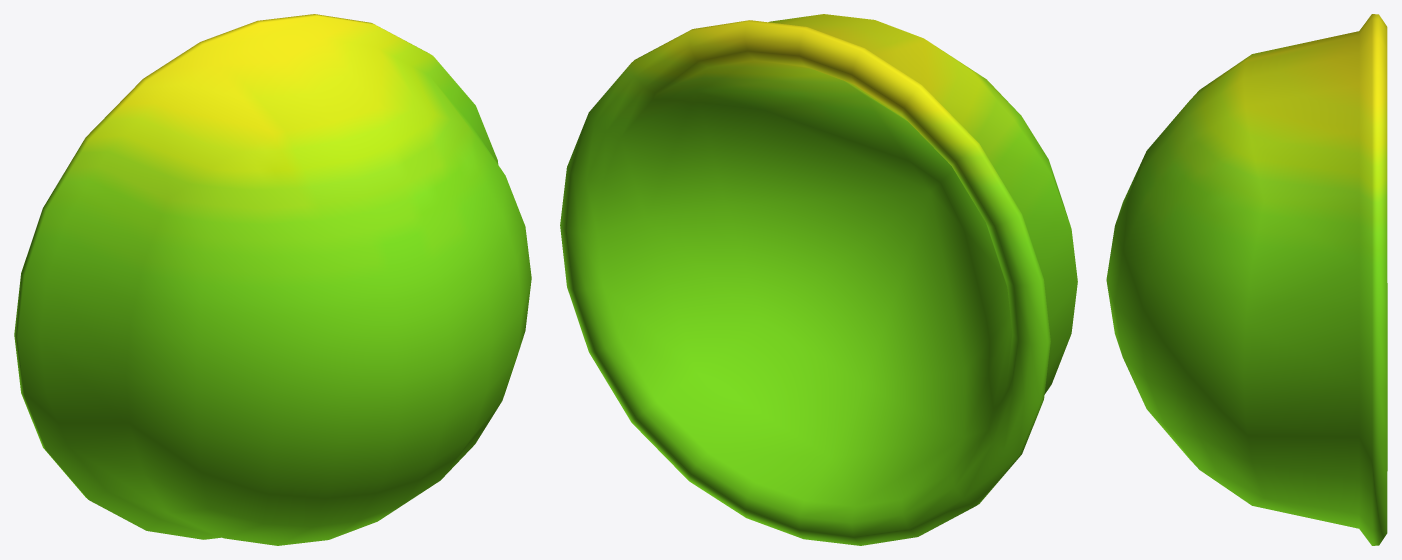
Rendered from Amongus02_Cut_037_0.FBX.
The picture shows the model from 3 angles, left to right: view 1: azimuth 30°, elevation 25°; view 2: azimuth 150°, elevation 25°; view 3: azimuth 270°, elevation 25°; orthographic projection. The views are drawn at different scales.
Visible parts, largest first — view 1: Amongus02_Cut_037_0; view 2: Amongus02_Cut_037_0; view 3: Amongus02_Cut_037_0.
Part boxes in pixels (left/top/right/bottom): Amongus02_Cut_037_0: left=14, top=14, right=531, bottom=545; Amongus02_Cut_037_0: left=560, top=14, right=1077, bottom=545; Amongus02_Cut_037_0: left=1106, top=14, right=1387, bottom=545.
Bounding box in the file's own units: 0.7584 × 0.4 × 0.7584.
